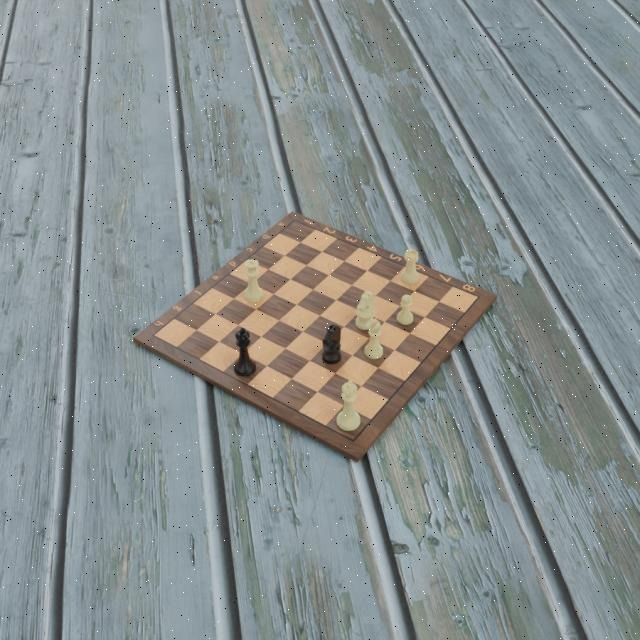black-king: (231, 325, 256, 378)
black-knight: (322, 321, 342, 366)
white-bishop: (362, 318, 385, 360)
white-king: (335, 379, 361, 433)
white-knight: (352, 290, 375, 332)
white-pawn: (393, 293, 415, 327)
white-queen: (242, 258, 264, 302)
white-rook: (399, 247, 421, 285)
